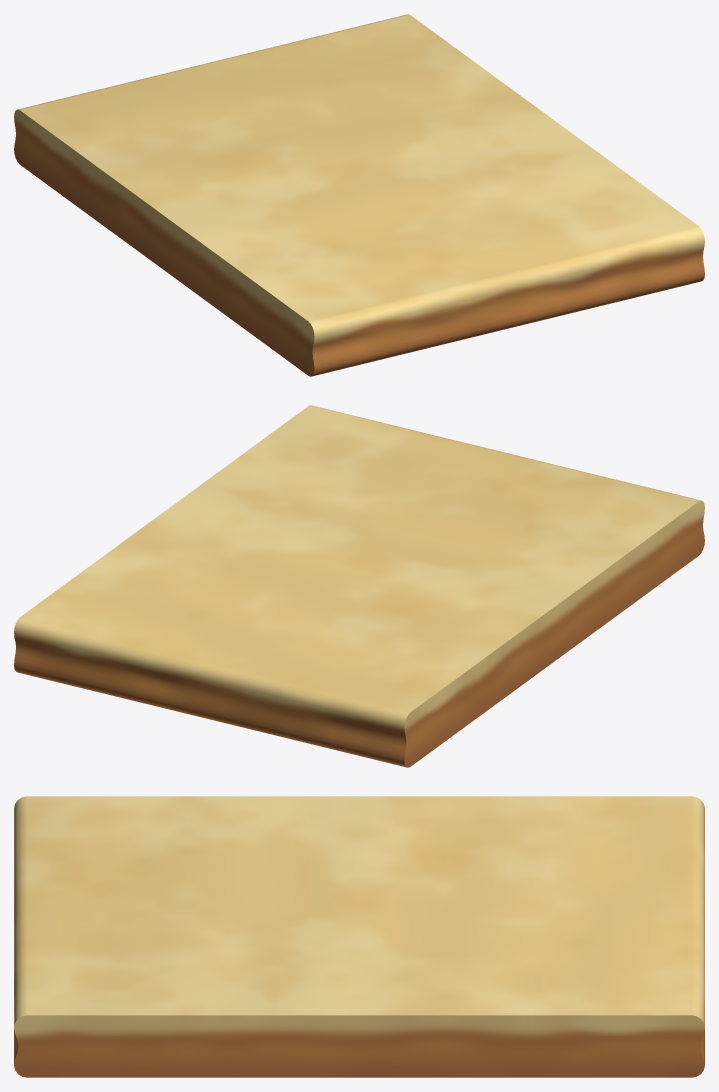
Rendered from SD_G07_Platform_Thin.fbx.
3 views of the same model, one above another, from view 1: azimuth 30°, elevation 25°; view 2: azimuth 150°, elevation 25°; view 3: azimuth 270°, elevation 25° (orthographic). The views are drawn at different scales.
Visible parts, largest first — view 1: SD_G07_Platform_Thin; view 2: SD_G07_Platform_Thin; view 3: SD_G07_Platform_Thin.
Part boxes in pixels (box(x1,y1,x2,y2)): SD_G07_Platform_Thin: box(14, 14, 704, 376); SD_G07_Platform_Thin: box(14, 405, 704, 767); SD_G07_Platform_Thin: box(14, 796, 704, 1077).
Size of the model in its own units: 3 by 0.4 by 4.
